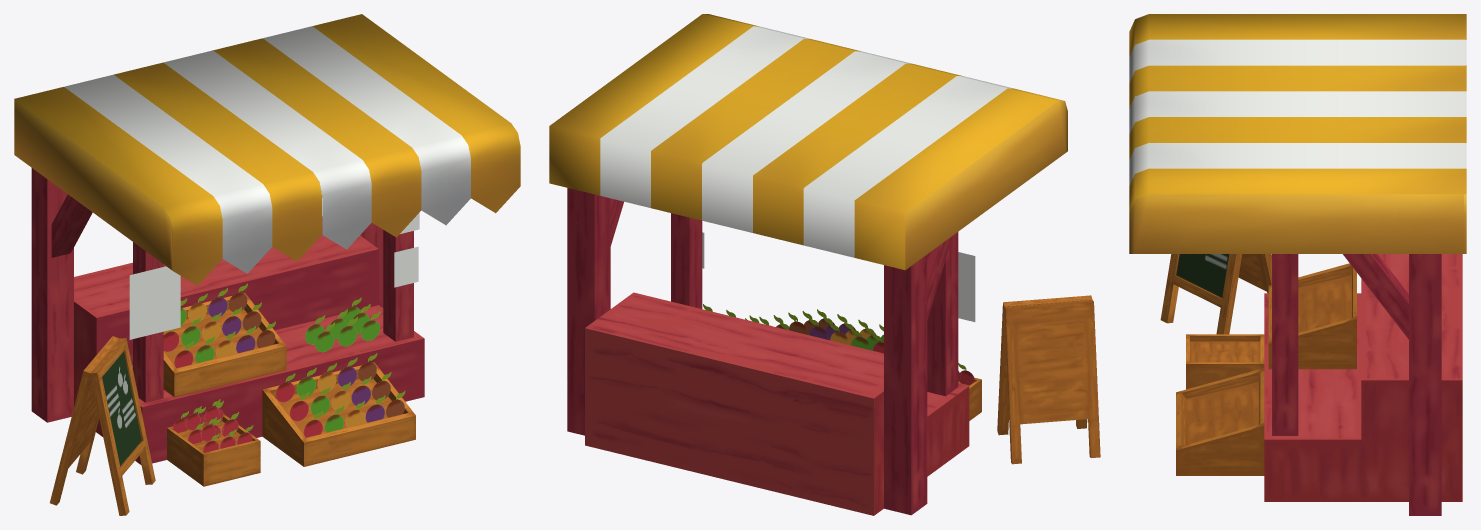
The model's file is Low_poly_Model_Assigment.fbx.
3 renders of one model, left to right at view 1: azimuth 30°, elevation 25°; view 2: azimuth 150°, elevation 25°; view 3: azimuth 270°, elevation 25°, orthographic. The views are drawn at different scales.
Parts seen in each view (by area): view 1: Shop, Apple_basket.002, Apple_basket.001, Green_board, Apple_basket.003, Green_Apple; view 2: Shop, Green_board, Apple_basket.001, Apple_basket.003; view 3: Shop, Apple_basket.002, Apple_basket.001, Green_board, Apple_basket.003.
Boxes of the visible parts, box(x1,y1,x2,y2) form: Shop: box(14, 14, 520, 465); Apple_basket.002: box(262, 353, 415, 466); Apple_basket.001: box(163, 283, 286, 397); Green_board: box(50, 336, 155, 515); Apple_basket.003: box(167, 399, 260, 486); Green_Apple: box(305, 297, 380, 352); Shop: box(549, 14, 1067, 515); Green_board: box(997, 295, 1100, 464); Apple_basket.001: box(788, 309, 883, 353); Apple_basket.003: box(958, 363, 981, 420); Shop: box(1129, 14, 1466, 515); Apple_basket.002: box(1176, 368, 1264, 475); Apple_basket.001: box(1268, 263, 1356, 369); Green_board: box(1160, 254, 1271, 334); Apple_basket.003: box(1186, 334, 1264, 389).
Size of the model in its own units: 267 by 183 by 173.
1 material, 1 textured.
